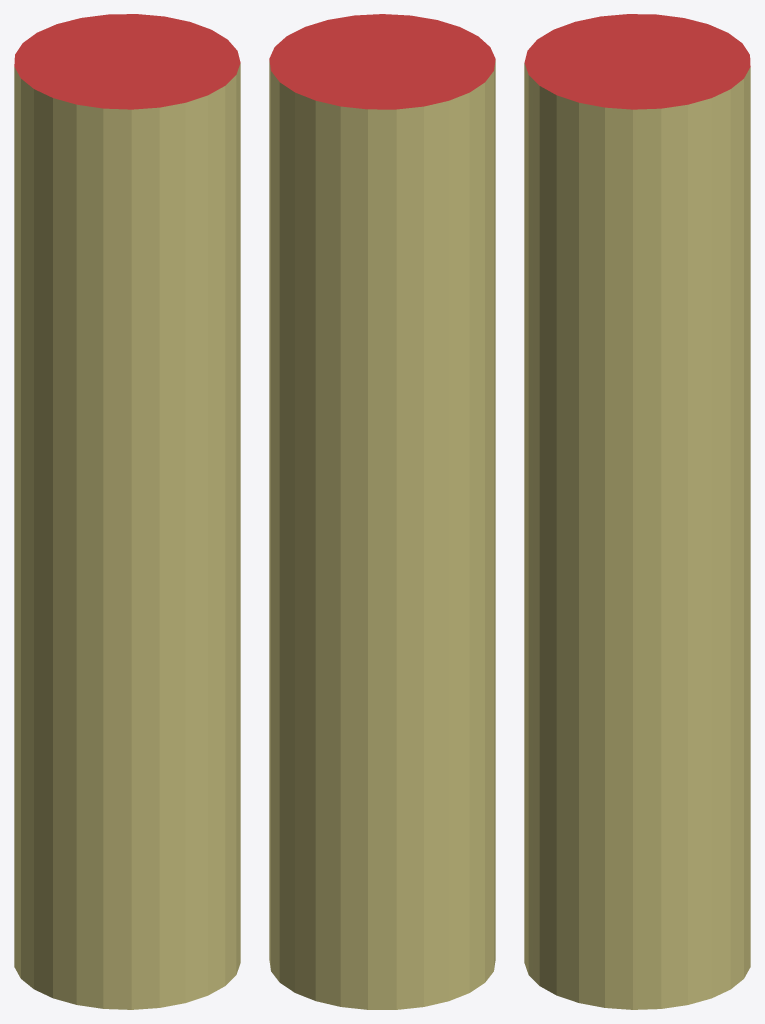
The picture shows the model from 3 angles, left to right: view 1: azimuth 30°, elevation 25°; view 2: azimuth 150°, elevation 25°; view 3: azimuth 270°, elevation 25°; orthographic projection.
Size of the model in its own units: 2.13 by 2.13 by 9.36.
